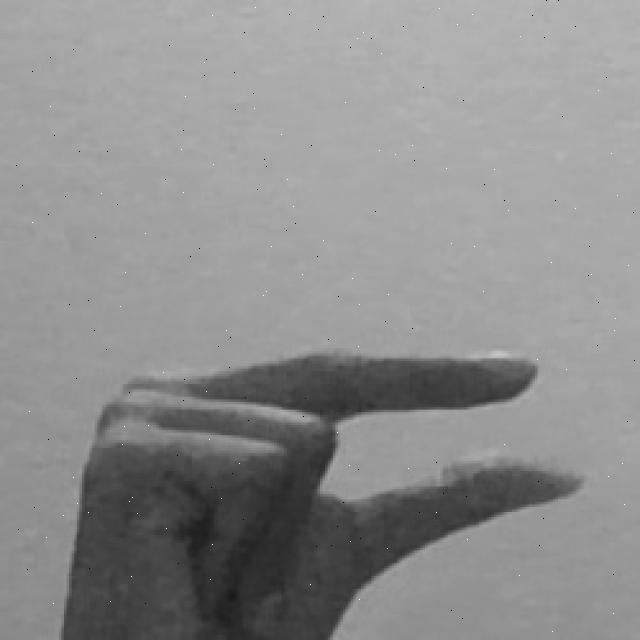G: (65, 344, 588, 640)
